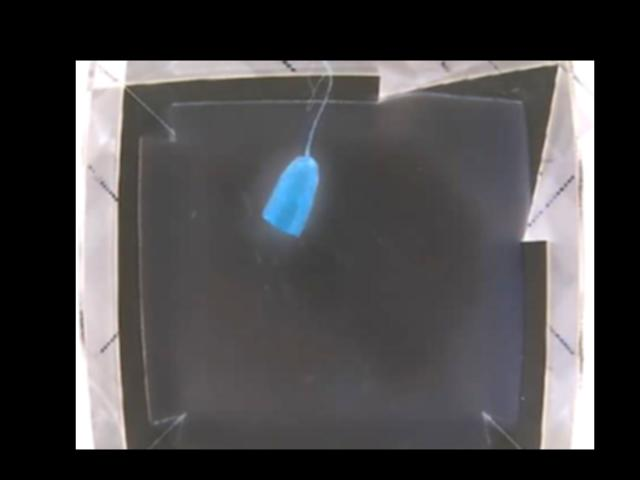Carrot: (257, 153, 331, 233)
